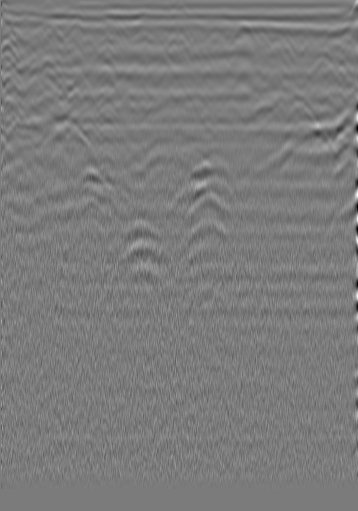가스: (75, 162, 109, 194)
상수: (300, 25, 320, 45)
오수: (30, 20, 50, 40)
우수: (168, 31, 188, 51)
